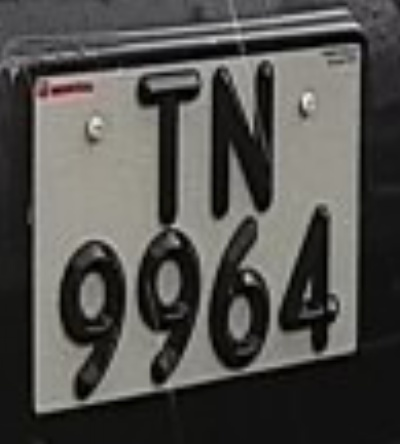4: (271, 199, 349, 362)
6: (199, 212, 279, 374)
9: (46, 227, 135, 409), (126, 223, 212, 390)
N: (202, 50, 288, 222)
T: (123, 64, 213, 232)
